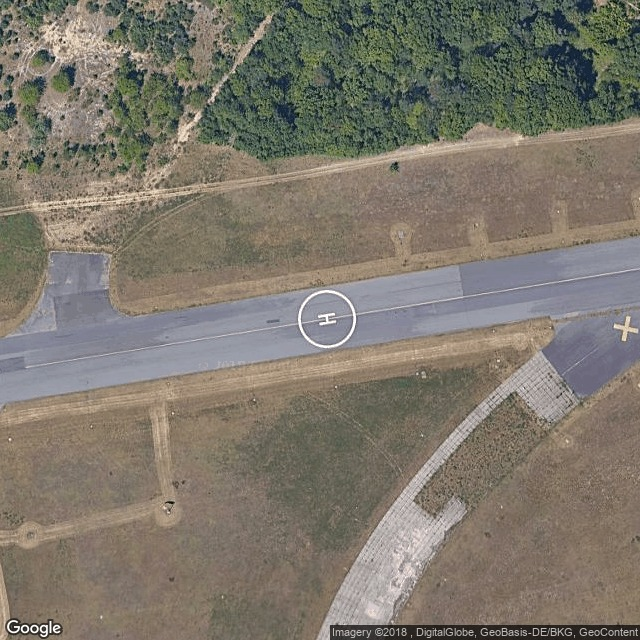heliport: (315, 311, 337, 326)
